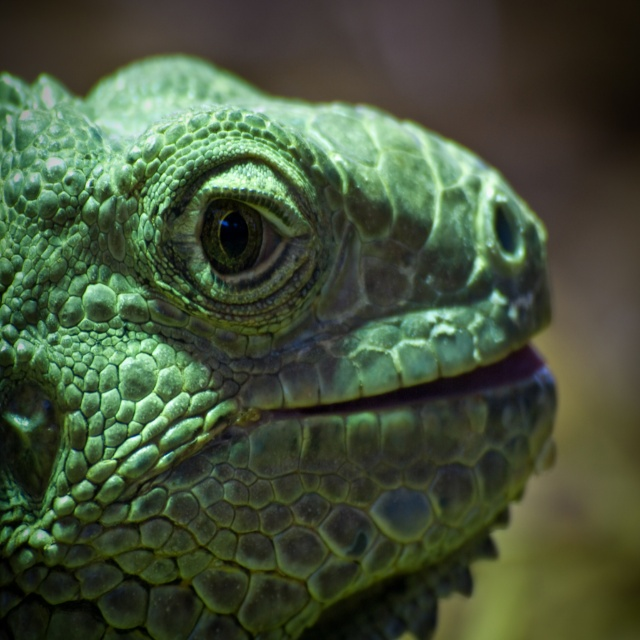Lizard: (0, 49, 587, 640)
